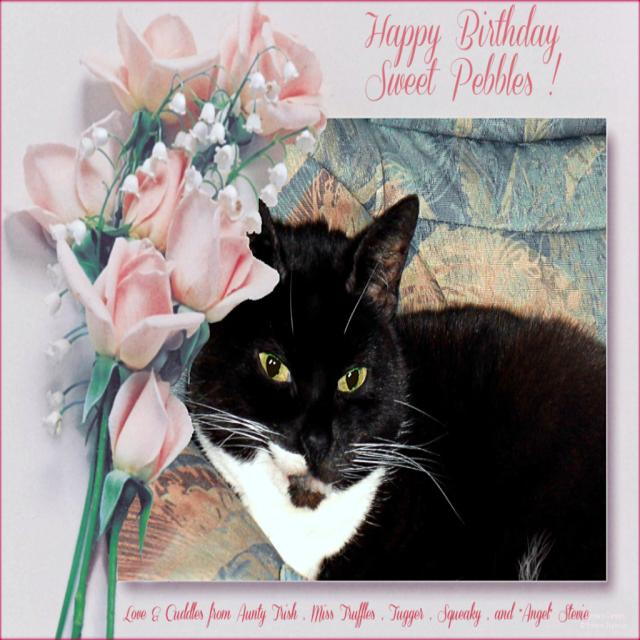Cat: (180, 194, 607, 579)
